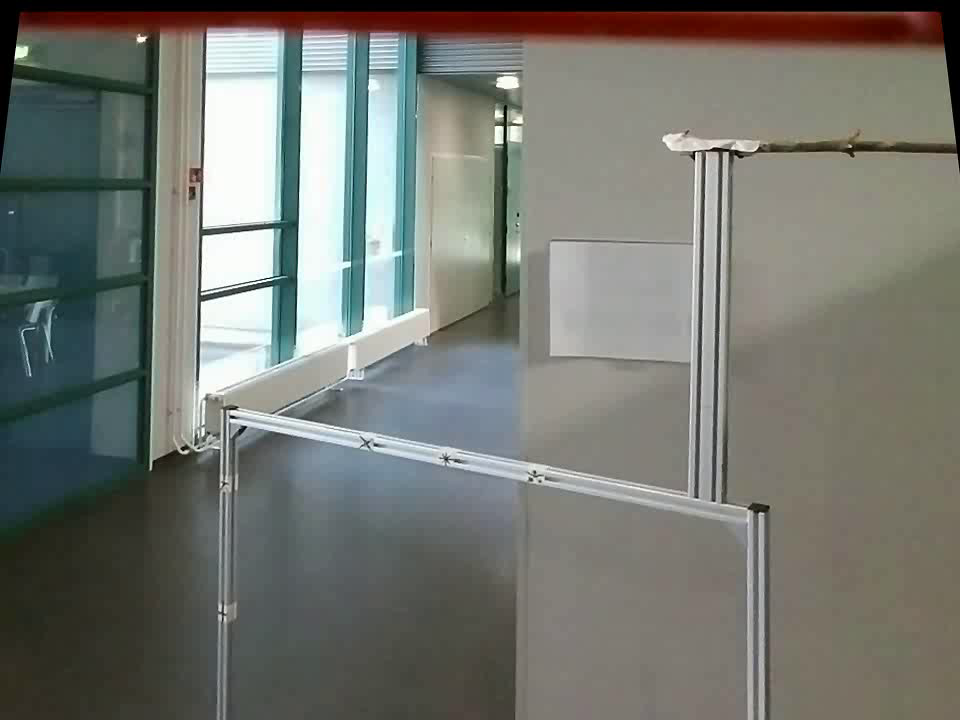aluminum_frame: (222, 401, 749, 526), (684, 154, 736, 506), (209, 405, 236, 719), (740, 499, 775, 717)
branch: (766, 118, 956, 169)
